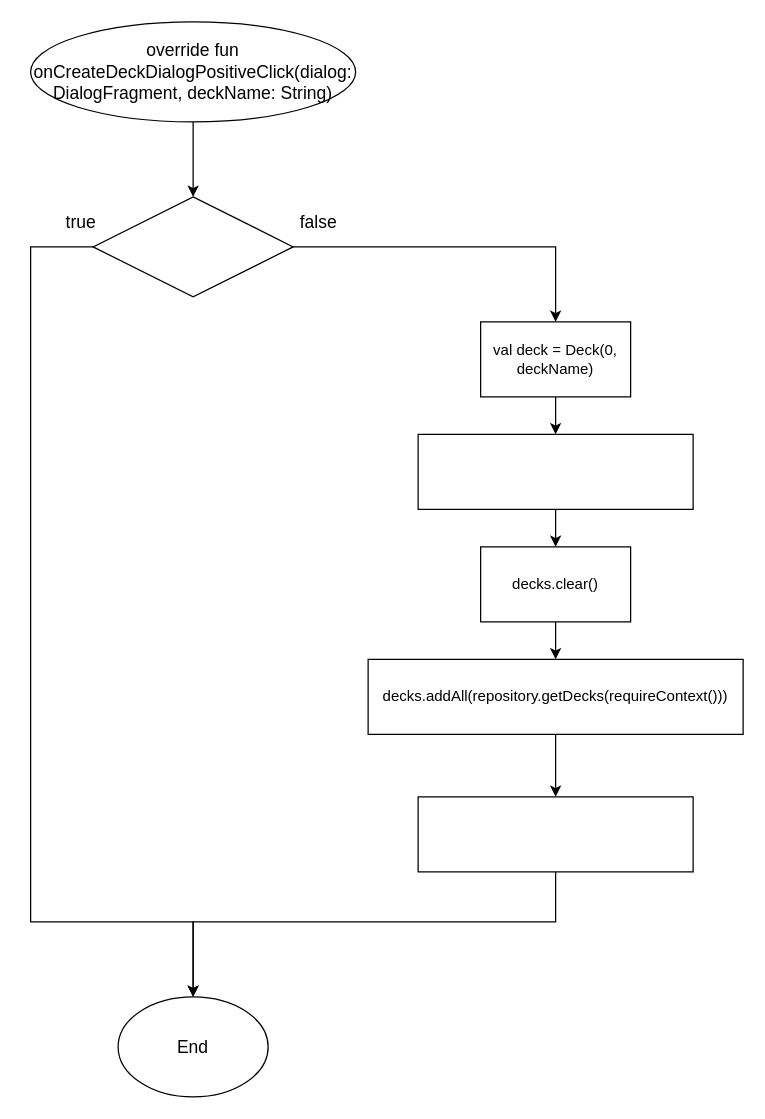
Some shapes in this 765 by 1119 pixel diagram are drawn without their labels. The shapes that lost their labels are listed below. From the top down, each one's centre as x and y in pixels, then its label:
(192,246): deckName == ""
(555,471): repository.addDeck(requireContext(), deck)
(555,834): list.adapter?.notifyDataSetChanged()
